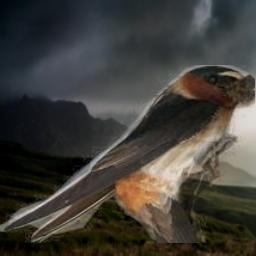Swallow: (0, 65, 255, 243)
